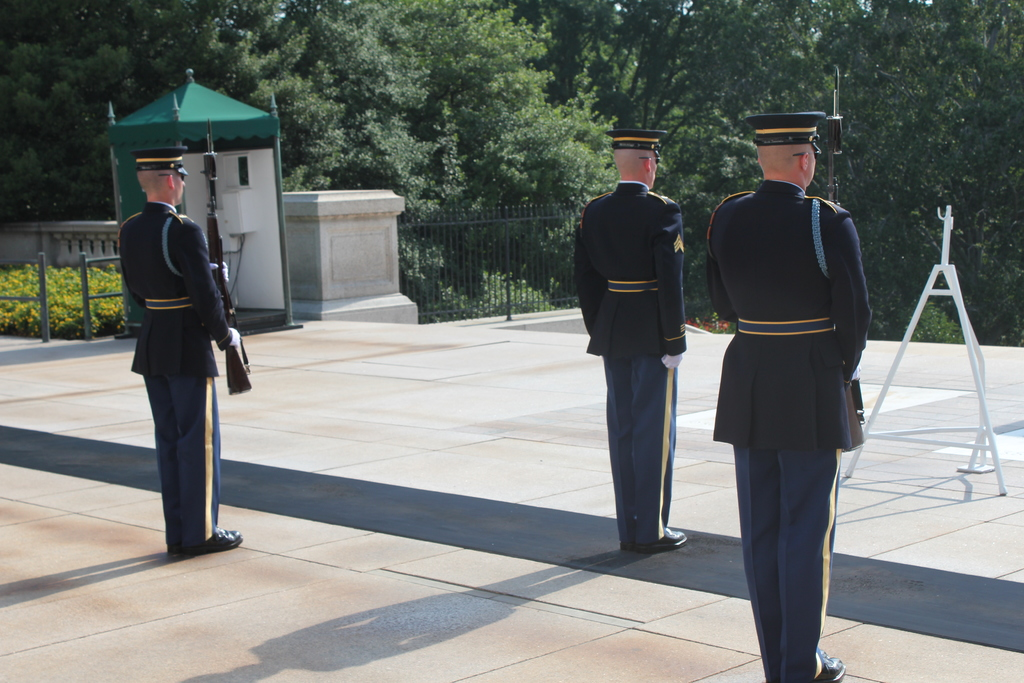hats: (741, 107, 825, 189), (125, 146, 187, 208), (606, 128, 668, 190)
